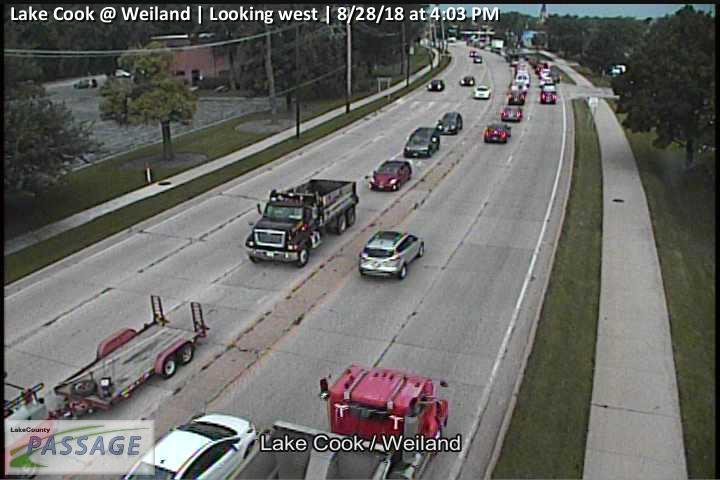SUV: (404, 125, 441, 158), (539, 85, 557, 103)
Sedan: (106, 412, 256, 480), (356, 229, 424, 277), (368, 159, 411, 191), (433, 110, 462, 136), (483, 123, 512, 143), (501, 106, 522, 122), (426, 78, 445, 91), (474, 85, 490, 100), (508, 91, 525, 104), (461, 75, 475, 86)
Truck: (1, 294, 211, 480), (212, 363, 450, 480), (243, 177, 359, 267)
